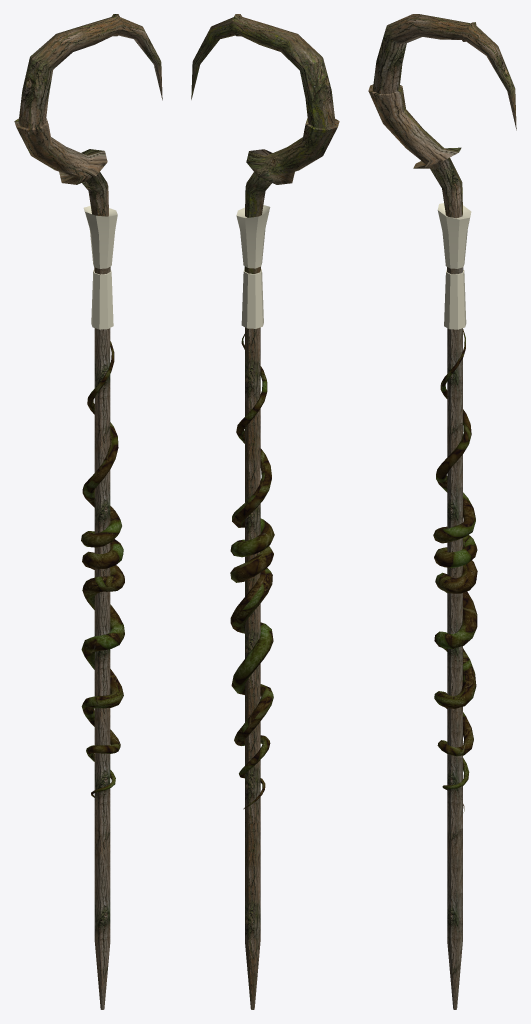
The model's file is baton_01.fbx.
3 renders of one model, left to right at view 1: azimuth 30°, elevation 25°; view 2: azimuth 150°, elevation 25°; view 3: azimuth 330°, elevation 25°, orthographic.
Parts seen in each view (by area): view 1: baton_01:pCylinder5; view 2: baton_01:pCylinder5; view 3: baton_01:pCylinder5.
Boxes of the visible parts, <box> form: baton_01:pCylinder5: <box>14,14,162,1009</box>; baton_01:pCylinder5: <box>191,14,339,1009</box>; baton_01:pCylinder5: <box>368,14,516,1009</box>.
Size of the model in its own units: 2.84 by 18.34 by 0.8548.
